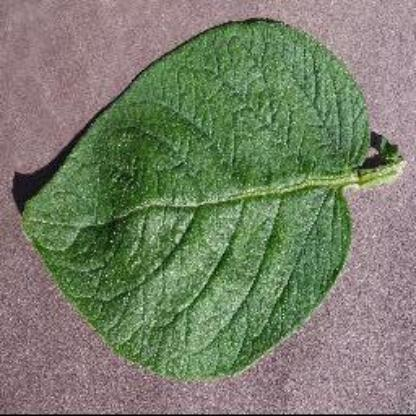Healthy-plant: (18, 16, 408, 382)
